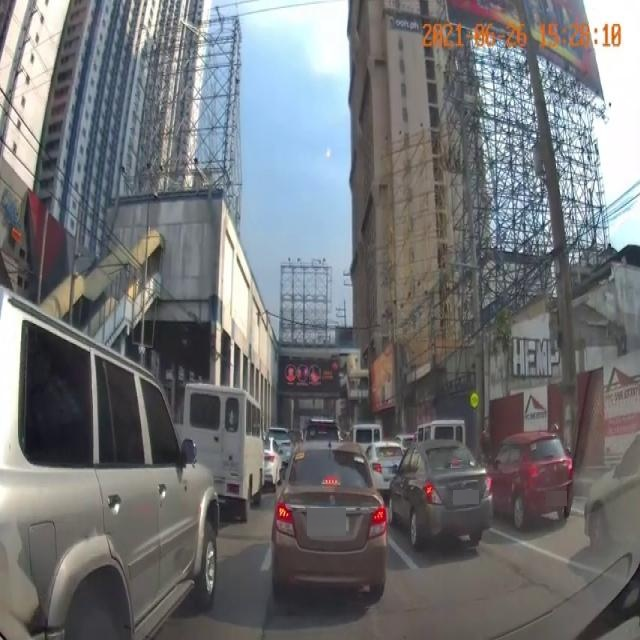car: (0, 305, 219, 622), (273, 434, 391, 594), (395, 447, 493, 559), (504, 439, 573, 536), (370, 439, 403, 492)
